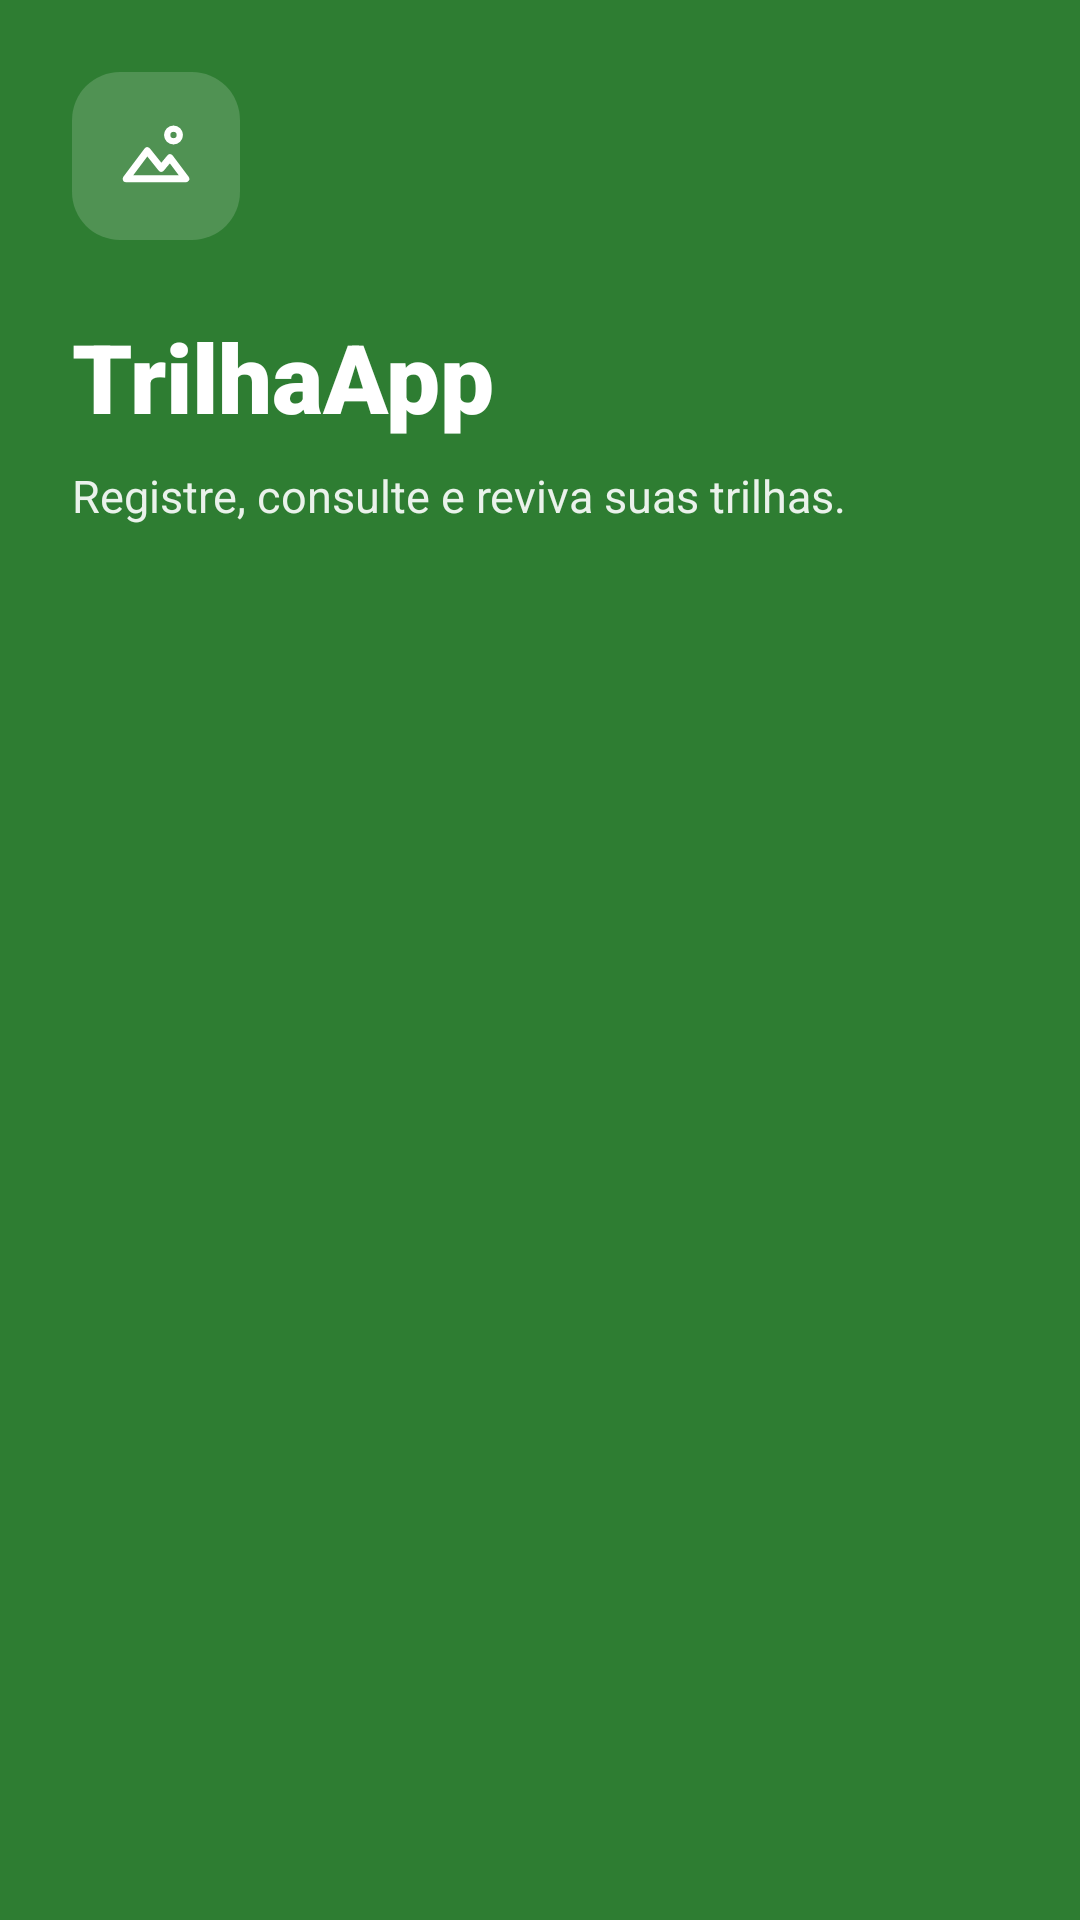

Named icons in this screenshot (1080 x 1920) and their bounding boxes, (x1, y1, x2, y2):
mountain: (72, 72, 240, 240)
